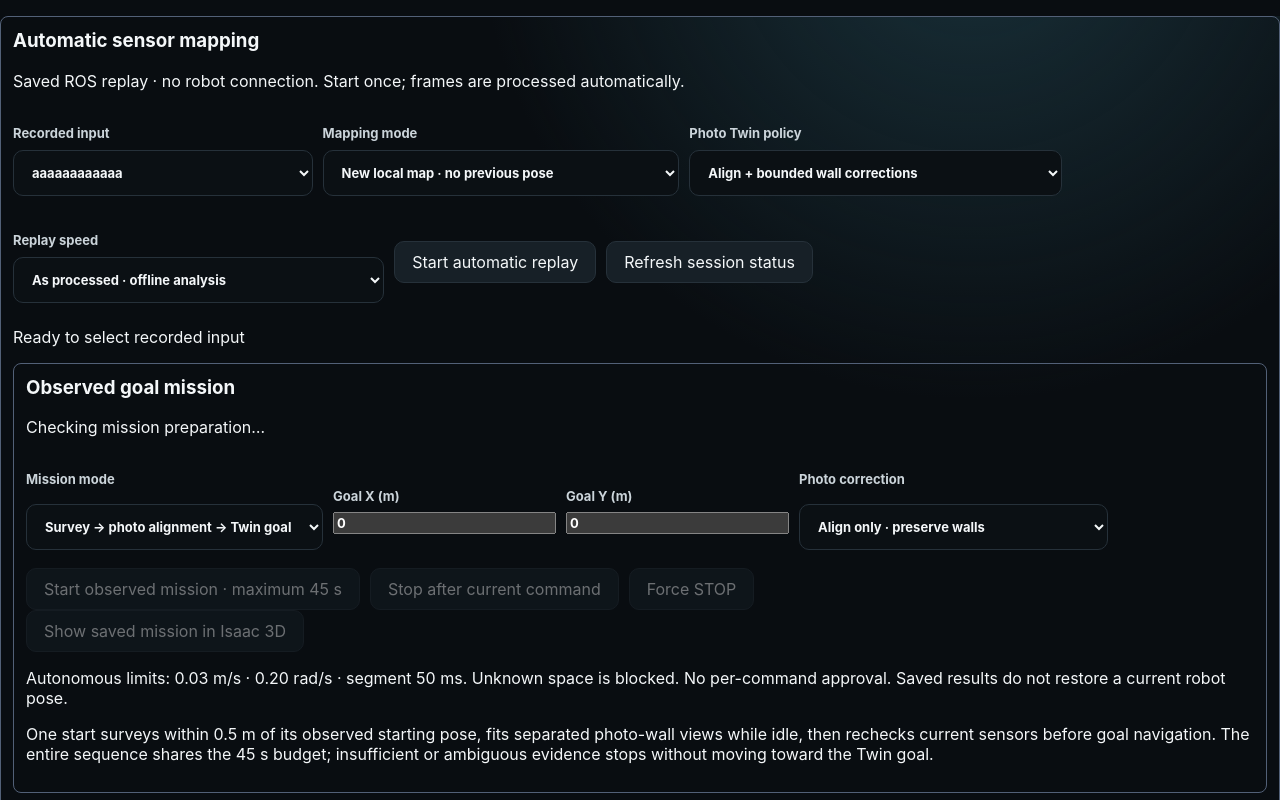
Test: automatic causal session › shows an asynchronous processing failure in the error dialog
The image size is (1280, 800).
What coordinates should you click on to do the following:
click the button "Start automatic replay"
I would click on:
 (495, 262)
Its box is [394,241,596,283].
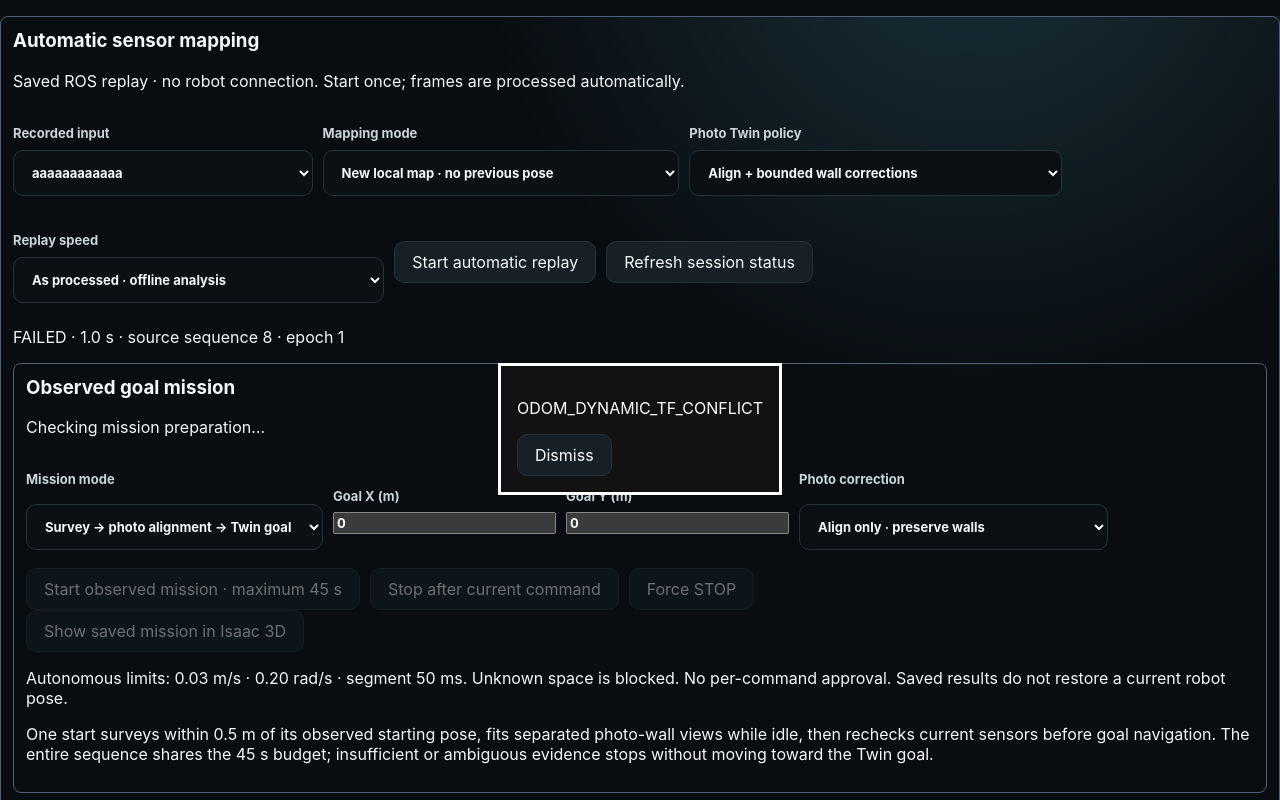
Expected: the dialog shows "ODOM_DYNAMIC_TF_CONFLICT", [517,398,763,418]
